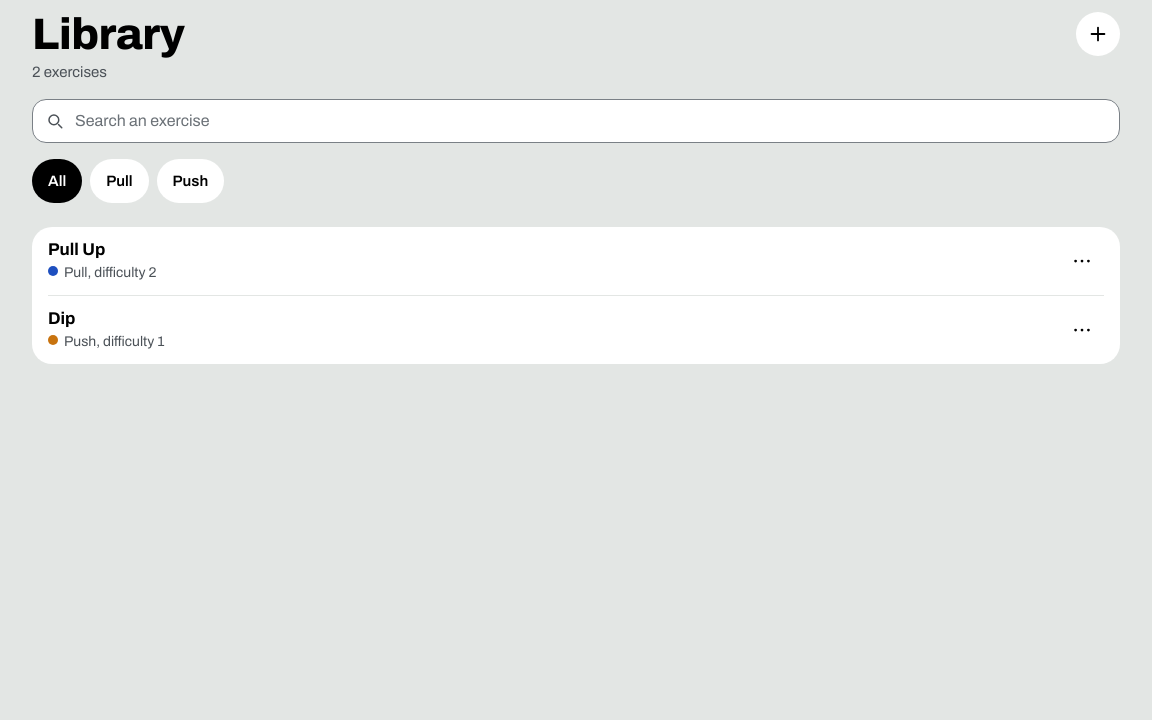
Test: ExerciseLibrary › deleting an exercise › opens the app’s dialog for that exercise instead of the browser’s confirm
Click the button named "Options for Dip" at [1082, 330], box left=1060, top=308, right=1104, bottom=352
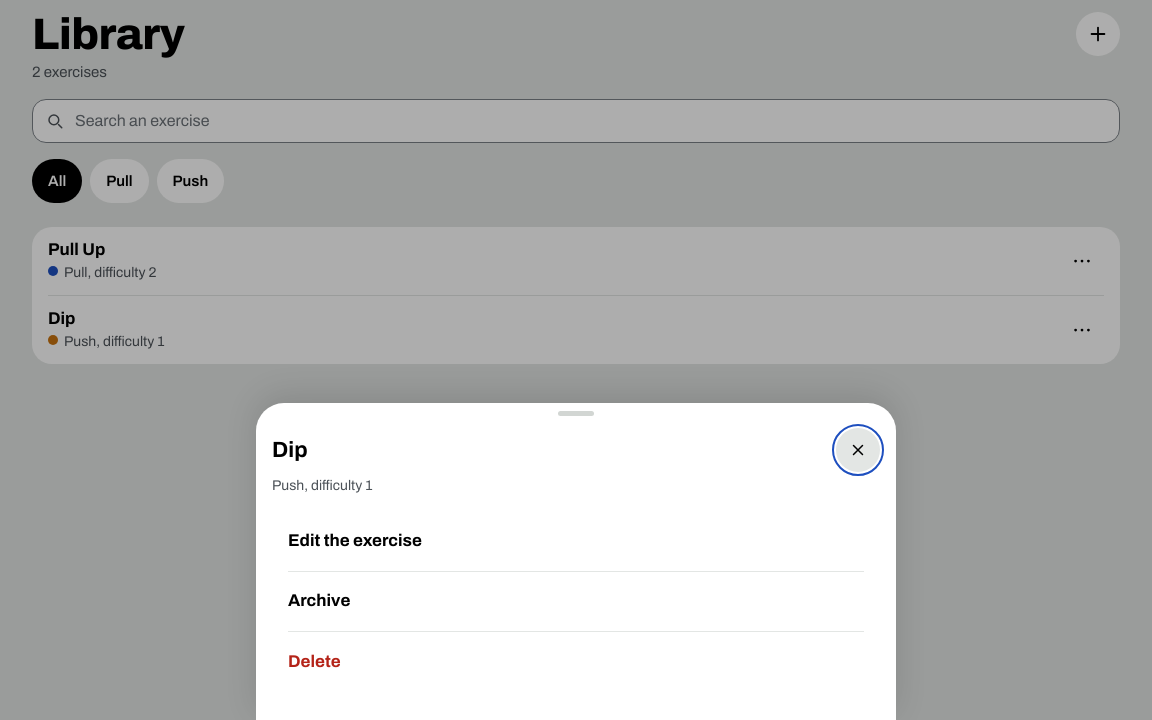
Click the button with aria-label "Delete Dip" at [314, 661], box left=288, top=632, right=864, bottom=692
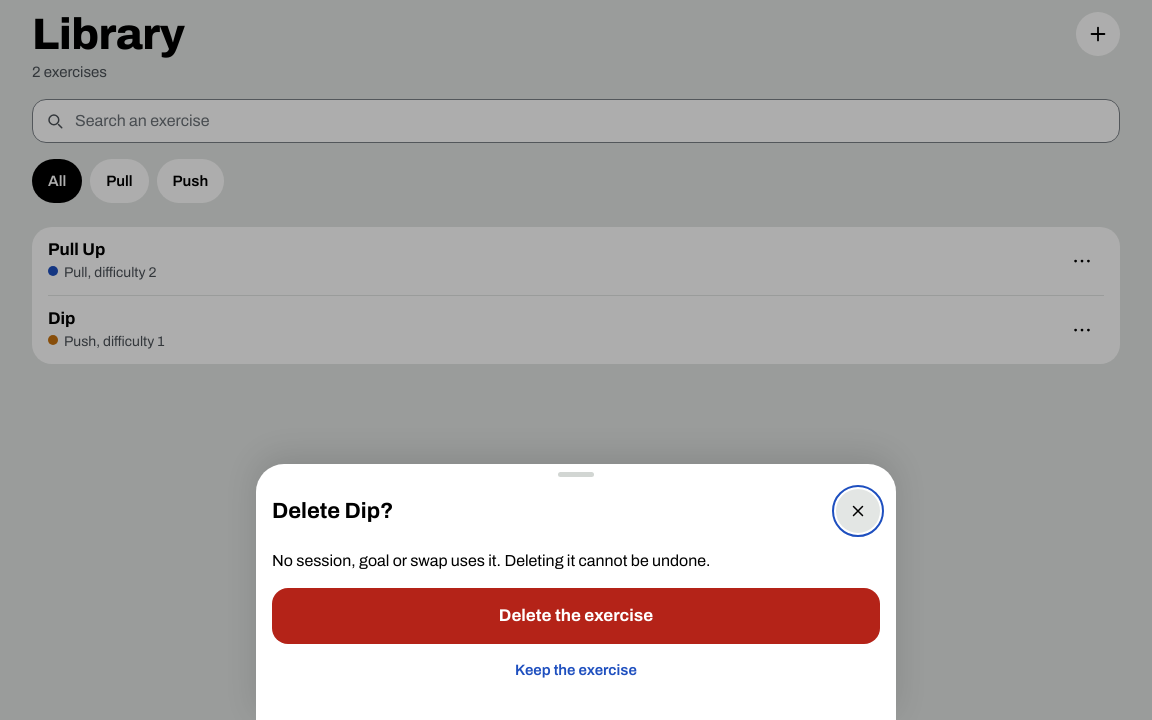
Now the heading "Delete Dip?" is shown, box left=272, top=498, right=394, bottom=524
